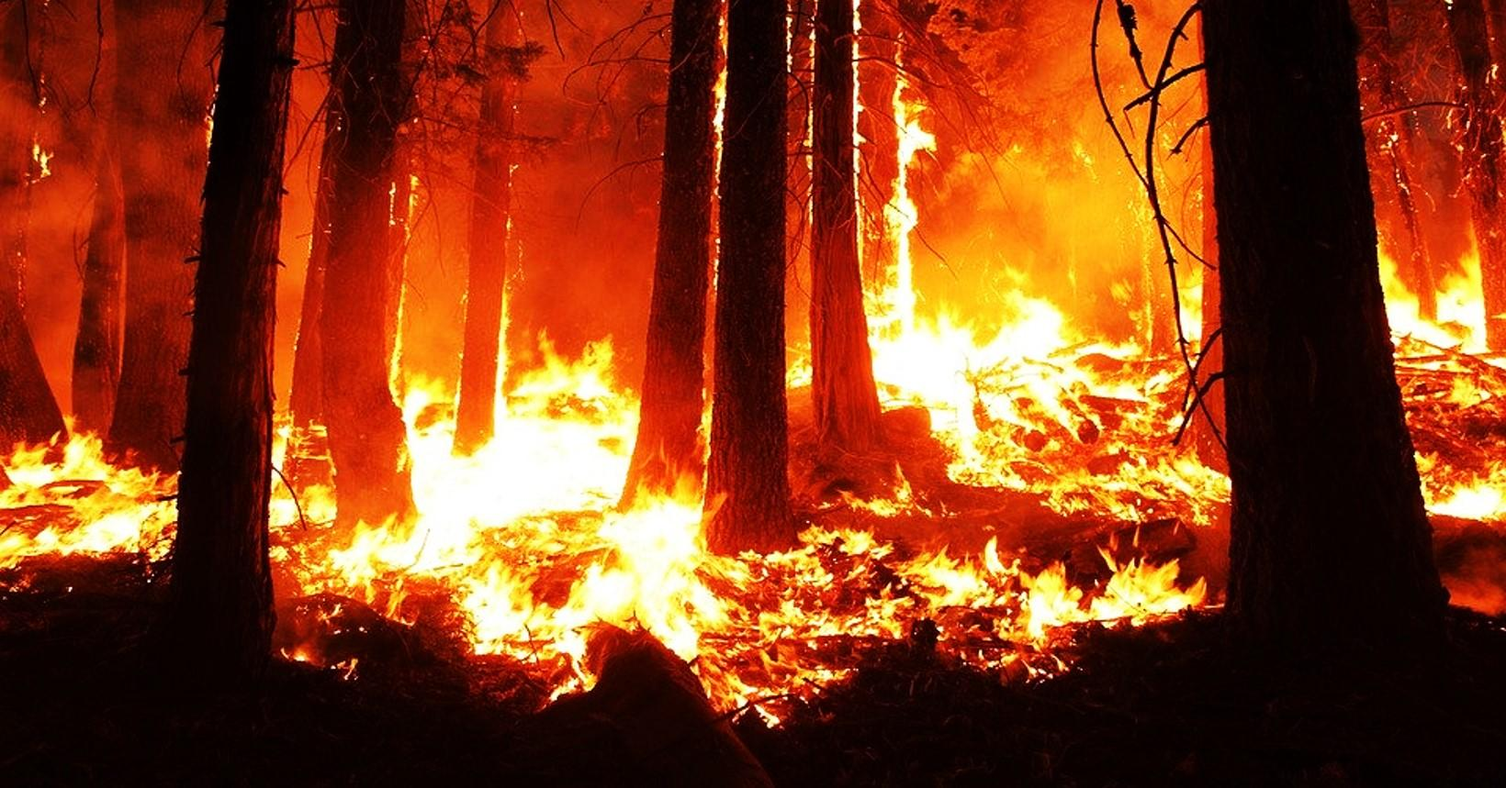fire: (50, 97, 790, 742), (854, 71, 1103, 439)
